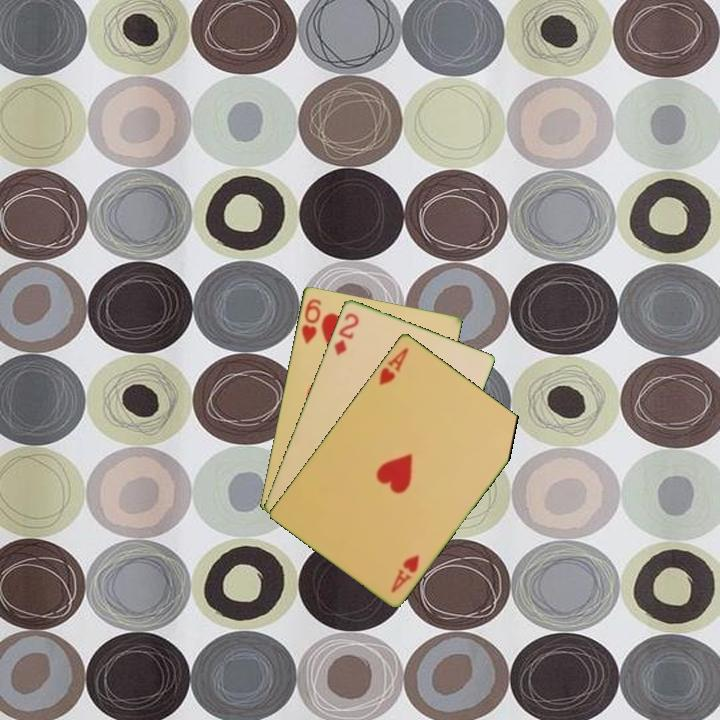2d: (330, 309, 362, 358)
6h: (298, 295, 324, 347)
Ah: (375, 344, 411, 388), (387, 551, 422, 595)
